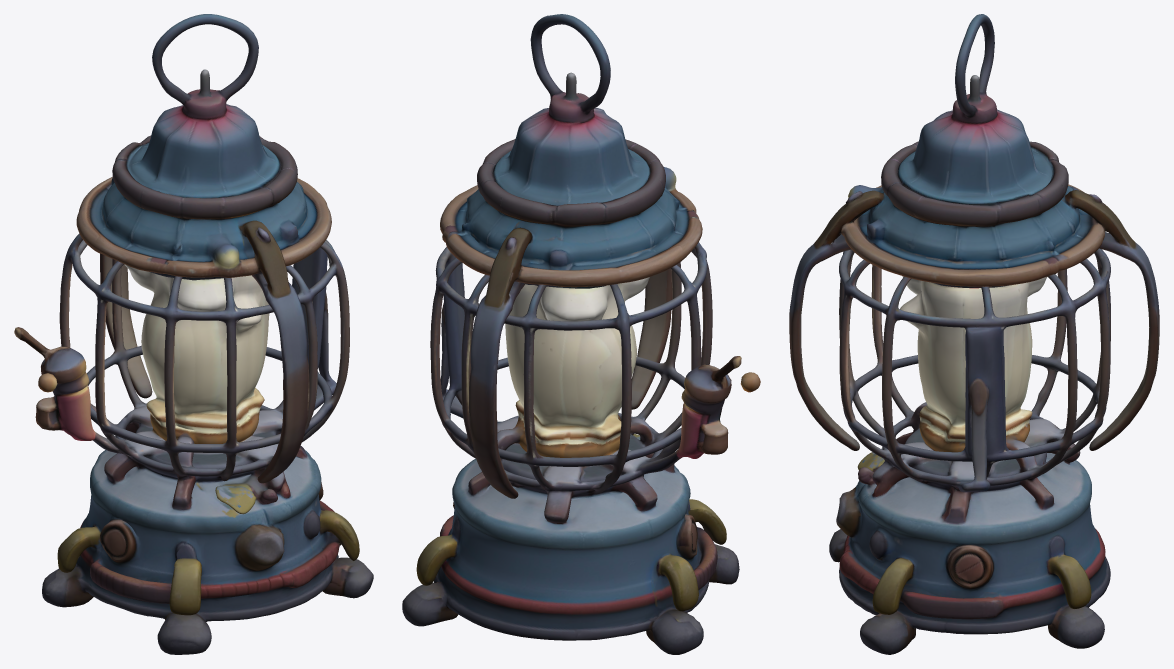
The model's file is asset.glb.
3 renders of one model, left to right at view 1: azimuth 30°, elevation 25°; view 2: azimuth 150°, elevation 25°; view 3: azimuth 270°, elevation 25°, orthographic. The views are drawn at different scales.
Visible parts, largest first — view 1: tripo_node_d8dd79ae; view 2: tripo_node_d8dd79ae; view 3: tripo_node_d8dd79ae.
Boxes of the visible parts, bbox=[...] form: tripo_node_d8dd79ae: bbox=[14, 14, 373, 654]; tripo_node_d8dd79ae: bbox=[402, 14, 760, 654]; tripo_node_d8dd79ae: bbox=[789, 14, 1159, 654].
Size of the model in its own units: 55.99 by 99.91 by 57.94.
1 material, 1 textured.
